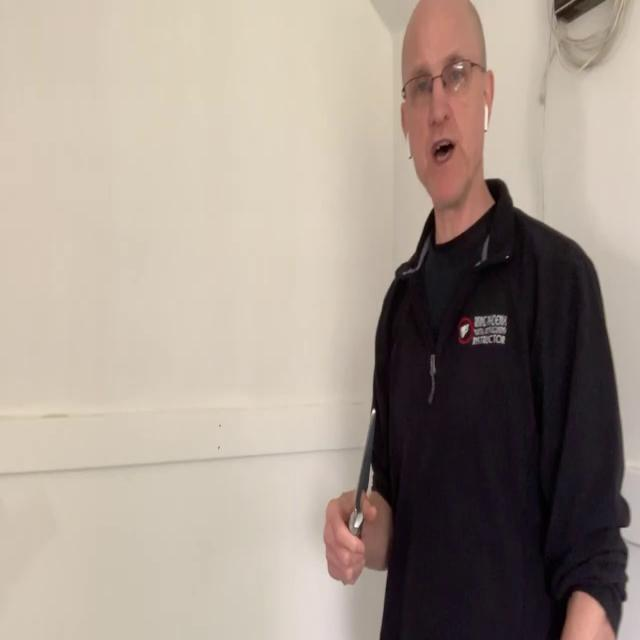Knife_Handle: (324, 408, 377, 586)
